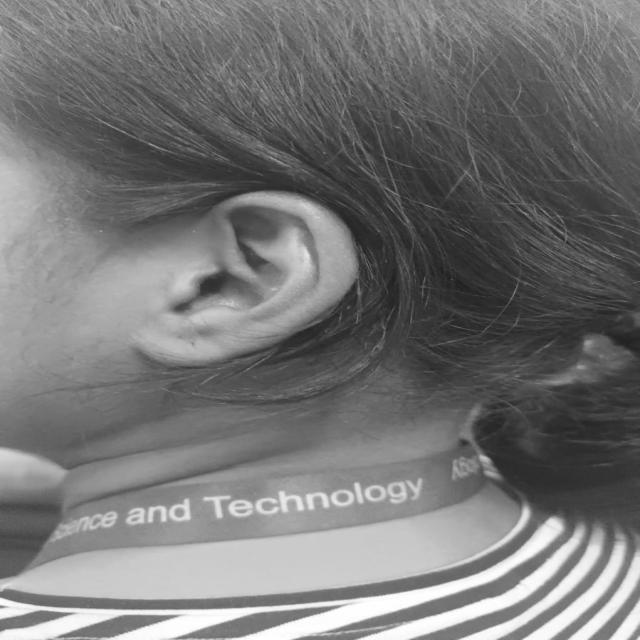ear: (133, 191, 357, 366)
